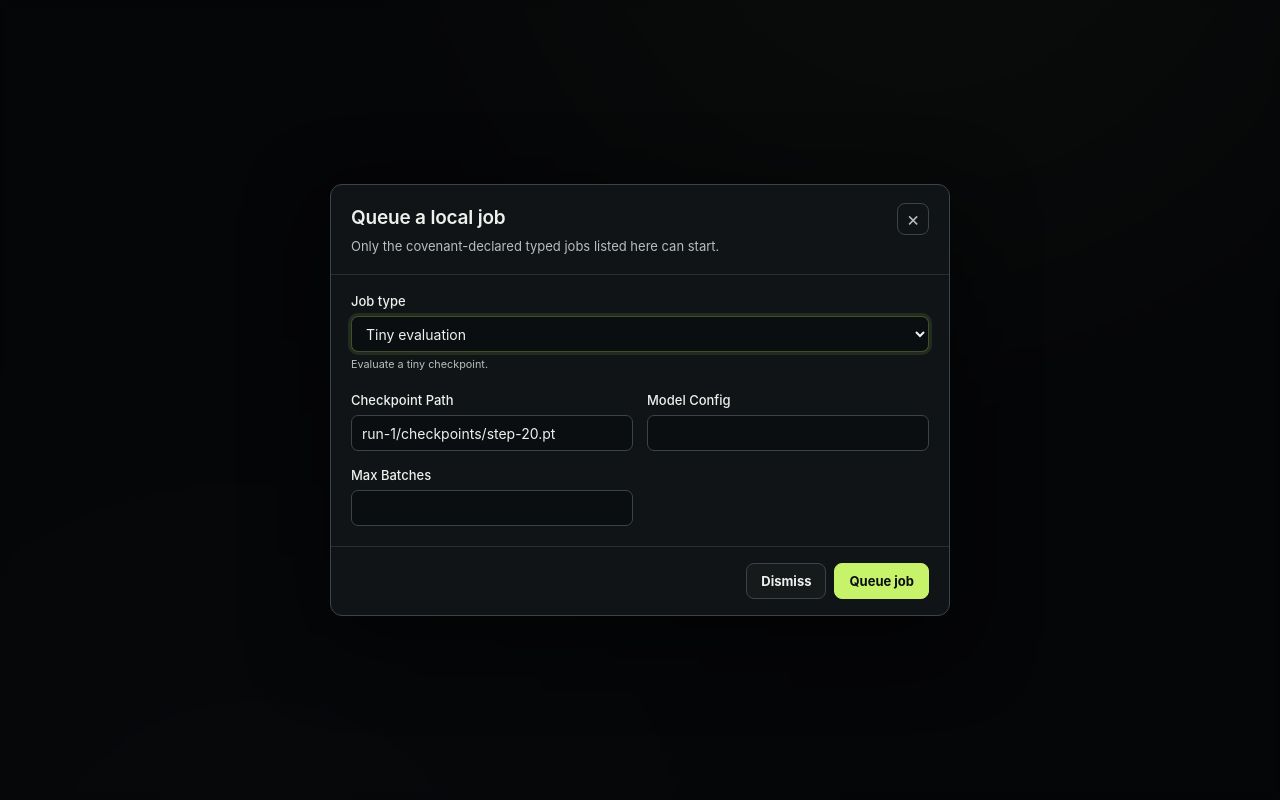
Test: prefilled job form › drops the seed when the operator switches to another job type
The width and height of the screenshot is (1280, 800).
Select "Tiny pretraining" in the dropdown labelled "Job type" at (640, 334), box [351, 316, 929, 352]
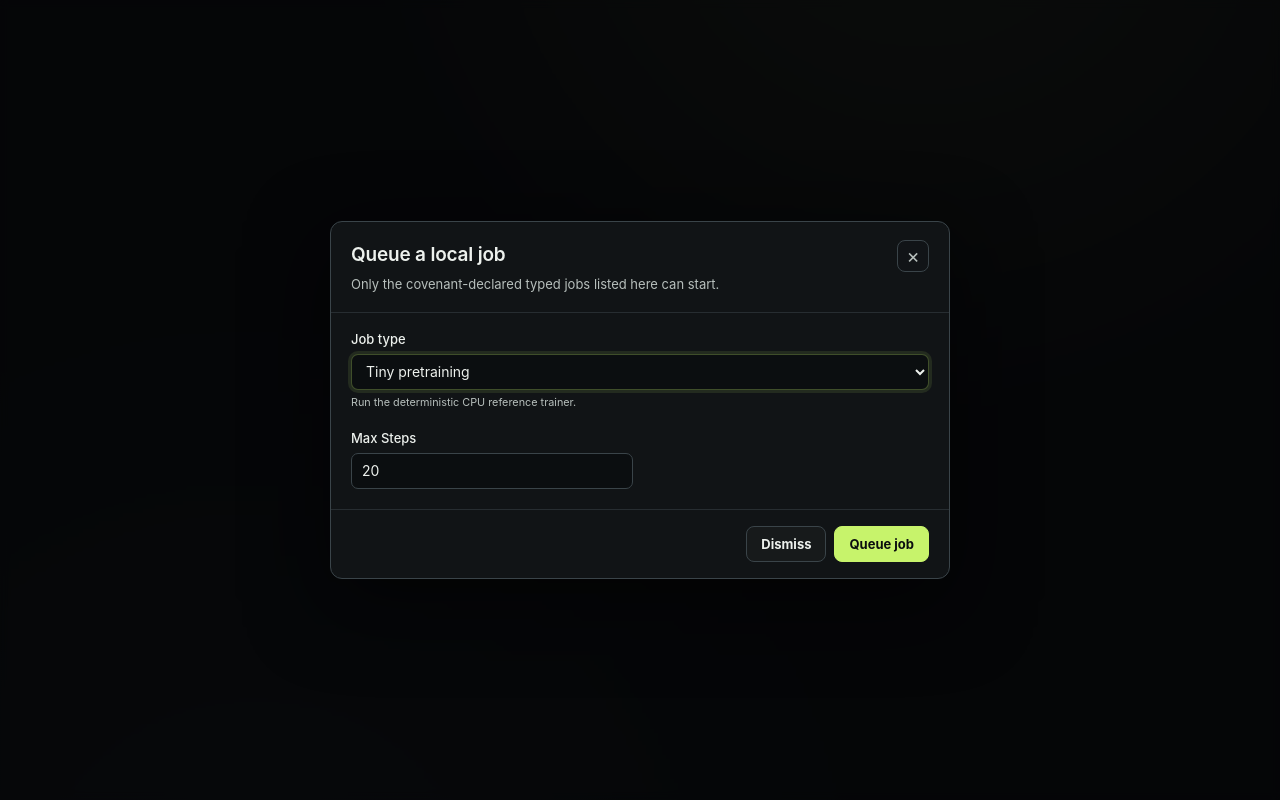
Expected: the text labelled "Checkpoint Path" is gone
Expected: the number field labelled "Max Steps" holds "20", [351, 453, 633, 489]
